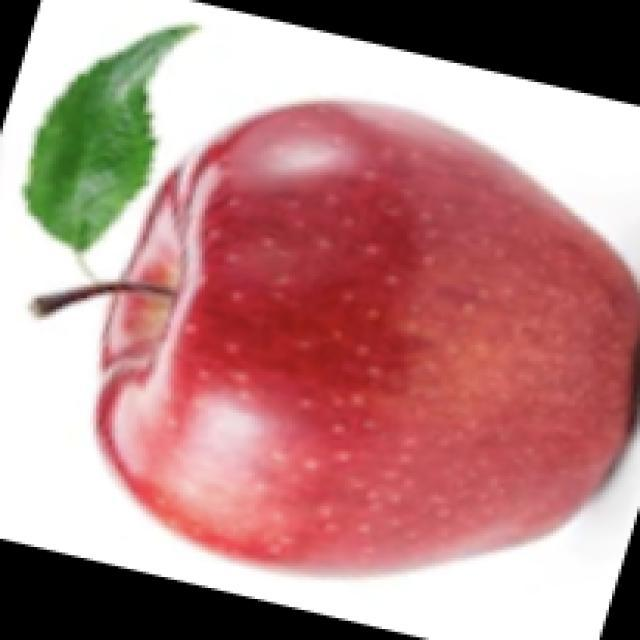Apple: (84, 94, 640, 585)
